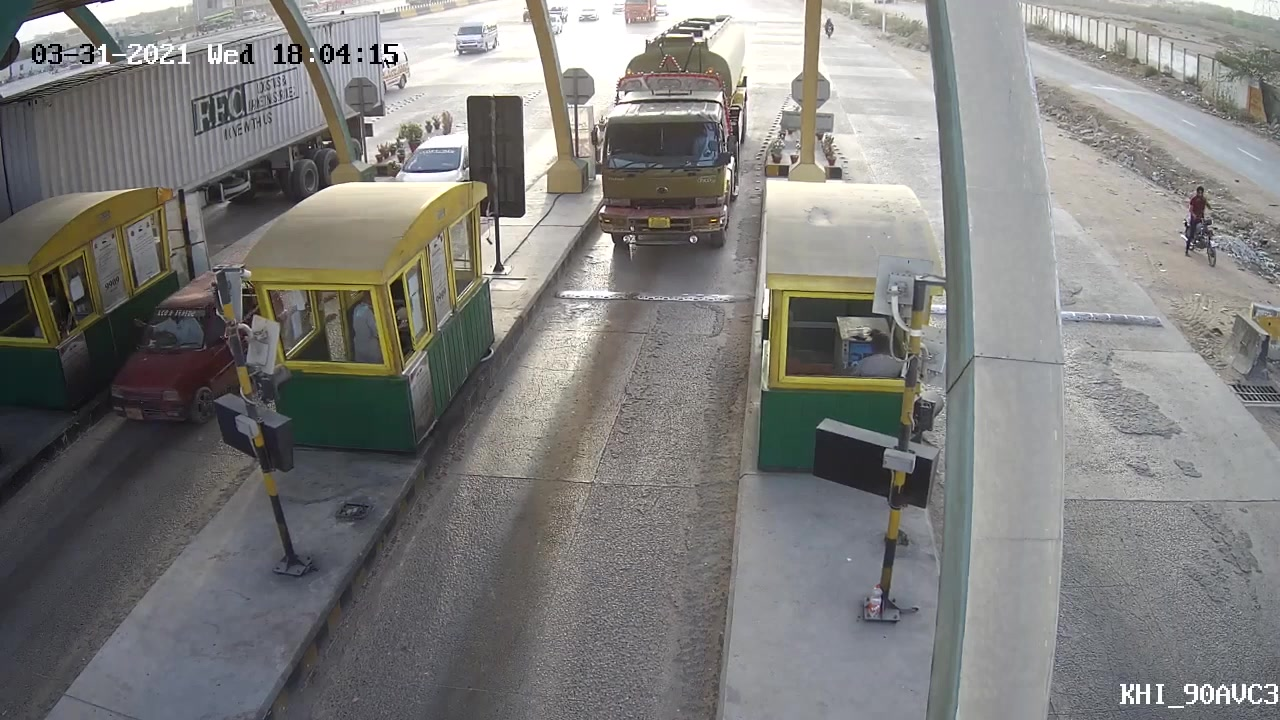F6: (584, 76, 745, 259)
